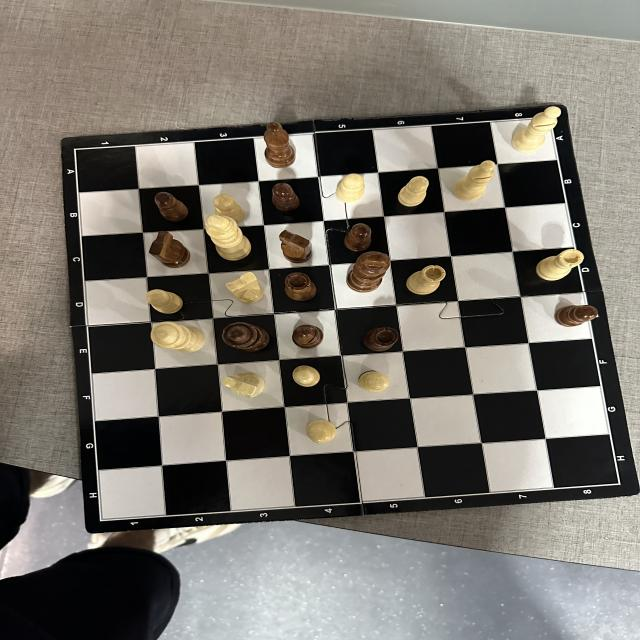Black-Bishop: (263, 122, 296, 168), (292, 324, 324, 348)
Black-King: (346, 251, 390, 293)
Black-Knight: (148, 230, 192, 268), (279, 230, 312, 264)
Black-Pawn: (154, 192, 189, 222), (555, 305, 598, 327), (272, 182, 300, 212), (344, 223, 372, 252)
Black-Queen: (222, 322, 270, 352)
Black-Rook: (284, 272, 317, 301), (363, 327, 399, 352)
White-Bishop: (512, 106, 562, 153), (452, 160, 497, 201)
White-King: (204, 214, 251, 261)
White-Knight: (226, 272, 264, 304), (222, 372, 264, 398)
White-Pawn: (397, 176, 429, 207), (145, 289, 184, 314), (213, 194, 245, 224), (335, 173, 365, 202), (306, 420, 336, 444), (358, 372, 389, 392), (292, 366, 320, 388)
White-Queen: (150, 322, 206, 354)
White-Rook: (536, 249, 584, 281), (406, 265, 446, 295)
